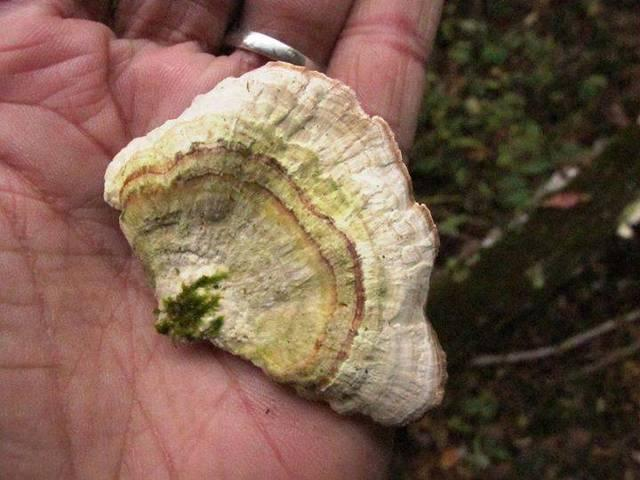Non-edible Mushroom: (101, 59, 450, 427)
